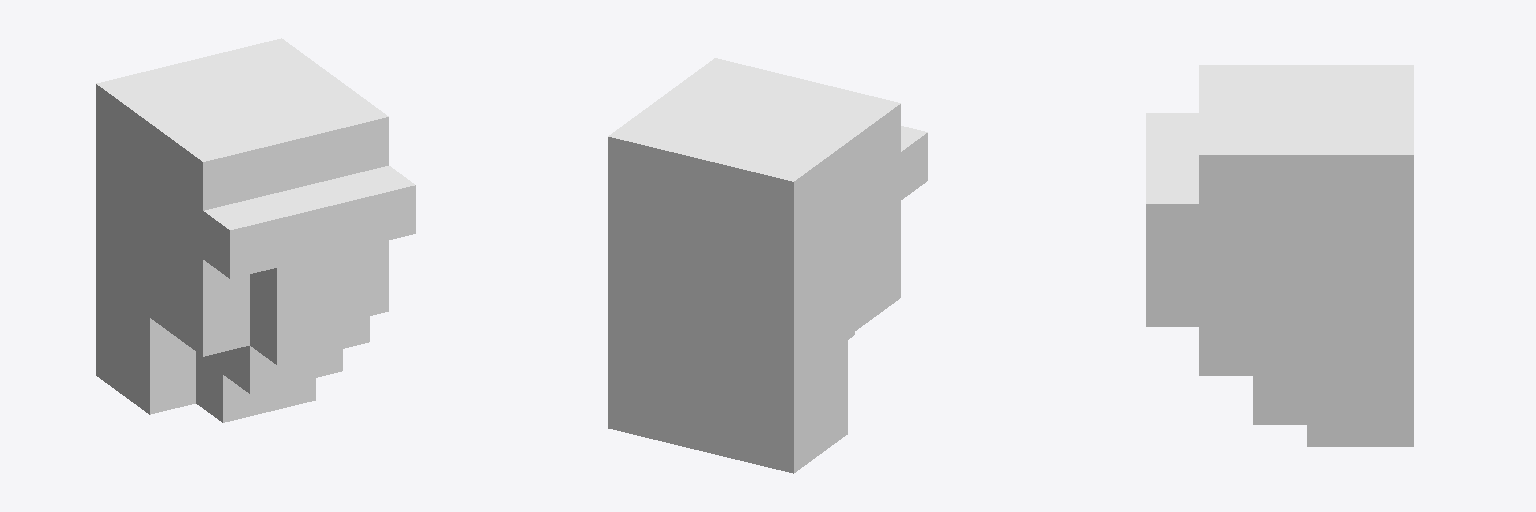
Rendered from char-283-head_long.obj.
The picture shows the model from 3 angles: view 1: azimuth 30°, elevation 25°; view 2: azimuth 150°, elevation 25°; view 3: azimuth 270°, elevation 25°; orthographic projection.
Parts seen in each view (by area): view 1: head_long; view 2: head_long; view 3: head_long.
Part boxes in pixels (x1,y1,x2,y2): head_long: (96, 38, 415, 422); head_long: (608, 58, 927, 473); head_long: (1146, 65, 1413, 446).
Size of the model in its own units: 0.4 by 0.6 by 0.5.